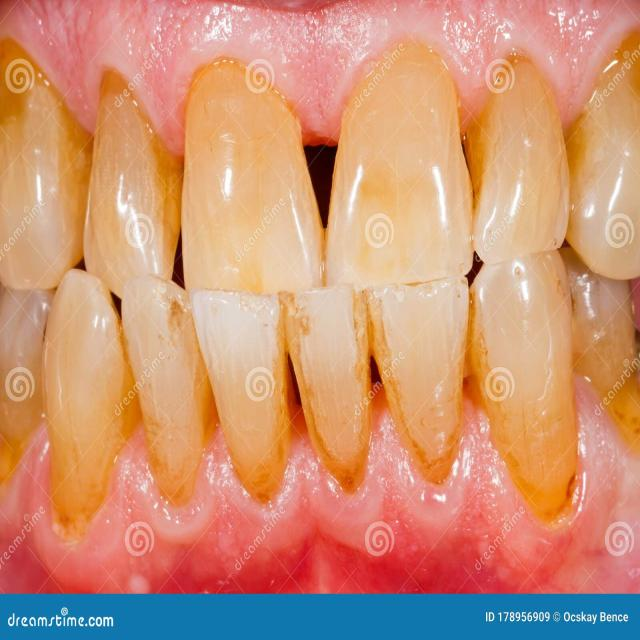tooth: (476, 265, 578, 514), (190, 87, 312, 289), (345, 65, 457, 283), (188, 292, 290, 497), (118, 278, 211, 492), (0, 76, 90, 273), (478, 58, 564, 264), (42, 272, 113, 517), (379, 287, 473, 468), (100, 95, 172, 275)
